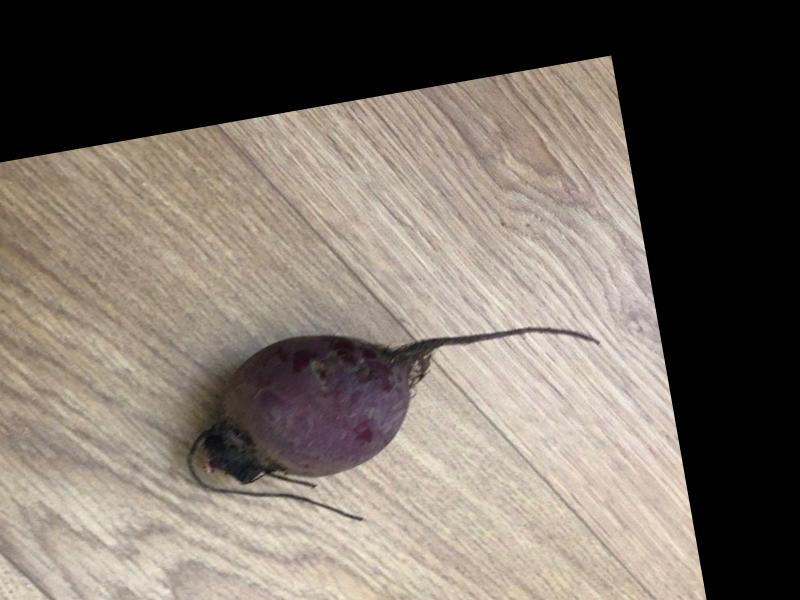Beet: (169, 284, 624, 548)
